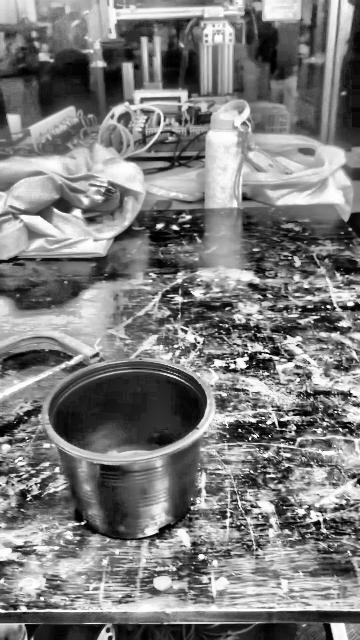pot: (47, 359, 211, 539)
